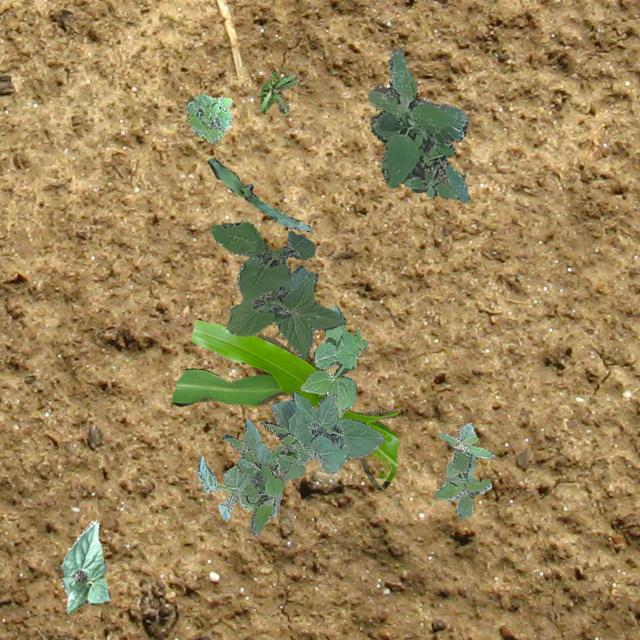crop: (170, 318, 398, 490), (196, 391, 384, 522), (206, 157, 312, 230), (60, 520, 110, 612)
weed: (210, 220, 346, 358), (367, 46, 468, 202), (222, 420, 304, 536), (299, 304, 366, 416), (432, 448, 490, 518), (438, 422, 492, 476), (184, 92, 232, 142), (258, 70, 298, 114)
